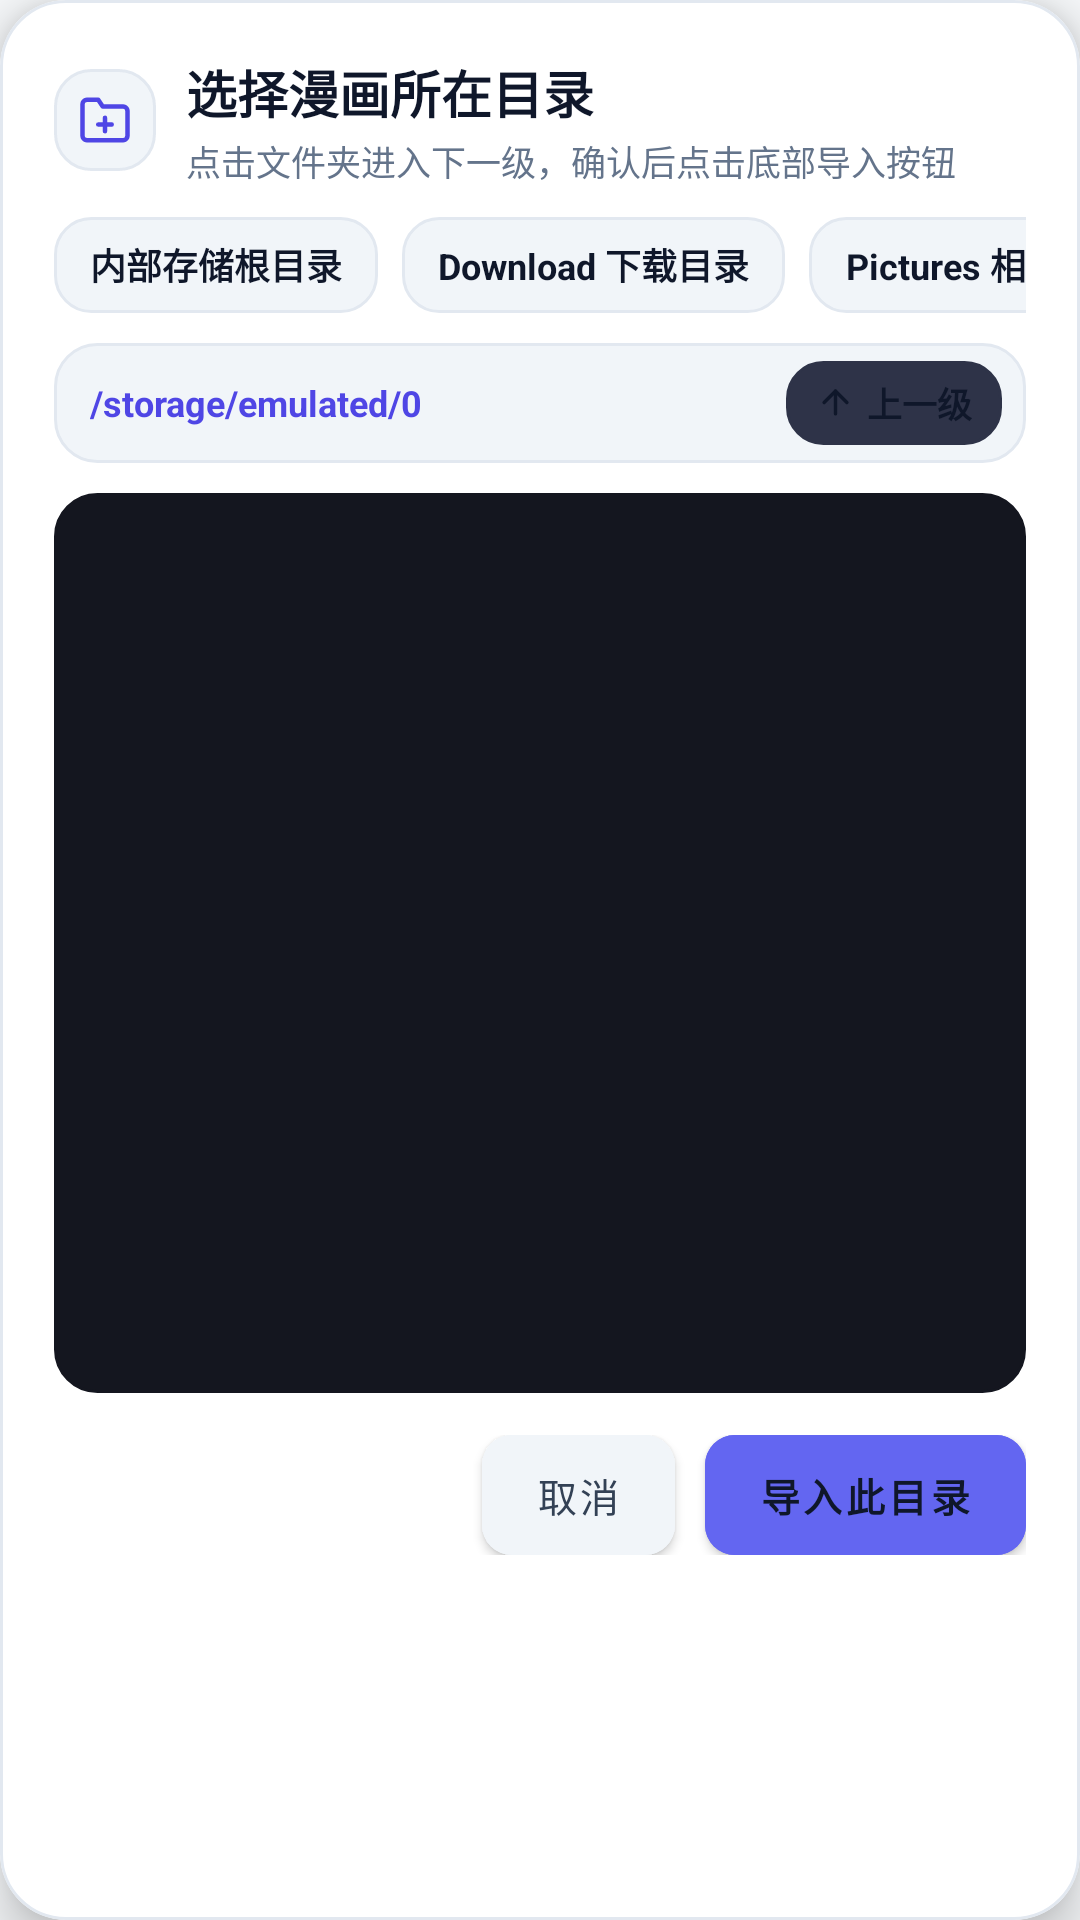

Locate icon controls on the screen. Image size 1080px×1920px, boxes as (x1, y1, x2, y2).
folder: (80, 97, 130, 143)
